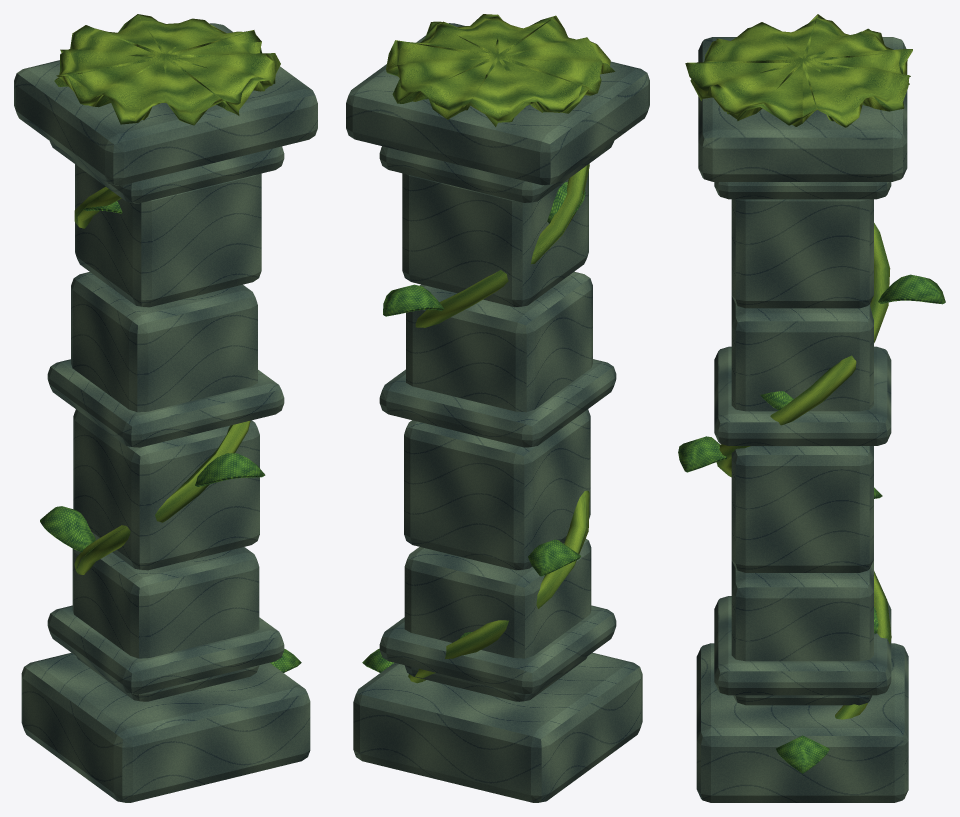
Rendered from ruined-column.glb.
The picture shows the model from 3 angles, left to right: view 1: azimuth 30°, elevation 25°; view 2: azimuth 150°, elevation 25°; view 3: azimuth 270°, elevation 25°; orthographic projection.
Visible parts, largest first — view 1: ruined-column_stone, ruined-column_moss, ruined-column_leaf; view 2: ruined-column_stone, ruined-column_moss, ruined-column_leaf; view 3: ruined-column_stone, ruined-column_moss, ruined-column_leaf.
Part boxes in pixels (x1,y1,x2,y2): ruined-column_stone: [14, 23, 317, 802]; ruined-column_moss: [54, 14, 280, 574]; ruined-column_leaf: [40, 201, 301, 672]; ruined-column_stone: [346, 23, 649, 802]; ruined-column_moss: [386, 14, 615, 683]; ruined-column_leaf: [362, 181, 585, 672]; ruined-column_stone: [696, 37, 908, 802]; ruined-column_moss: [685, 14, 912, 719]; ruined-column_leaf: [678, 274, 945, 773].
Size of the model in its own units: 0.8892 by 2.44 by 0.8462.
3 materials, 3 textured.
